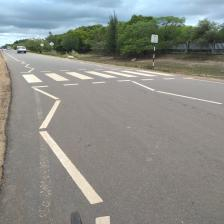crossing: (22, 66, 187, 94)
